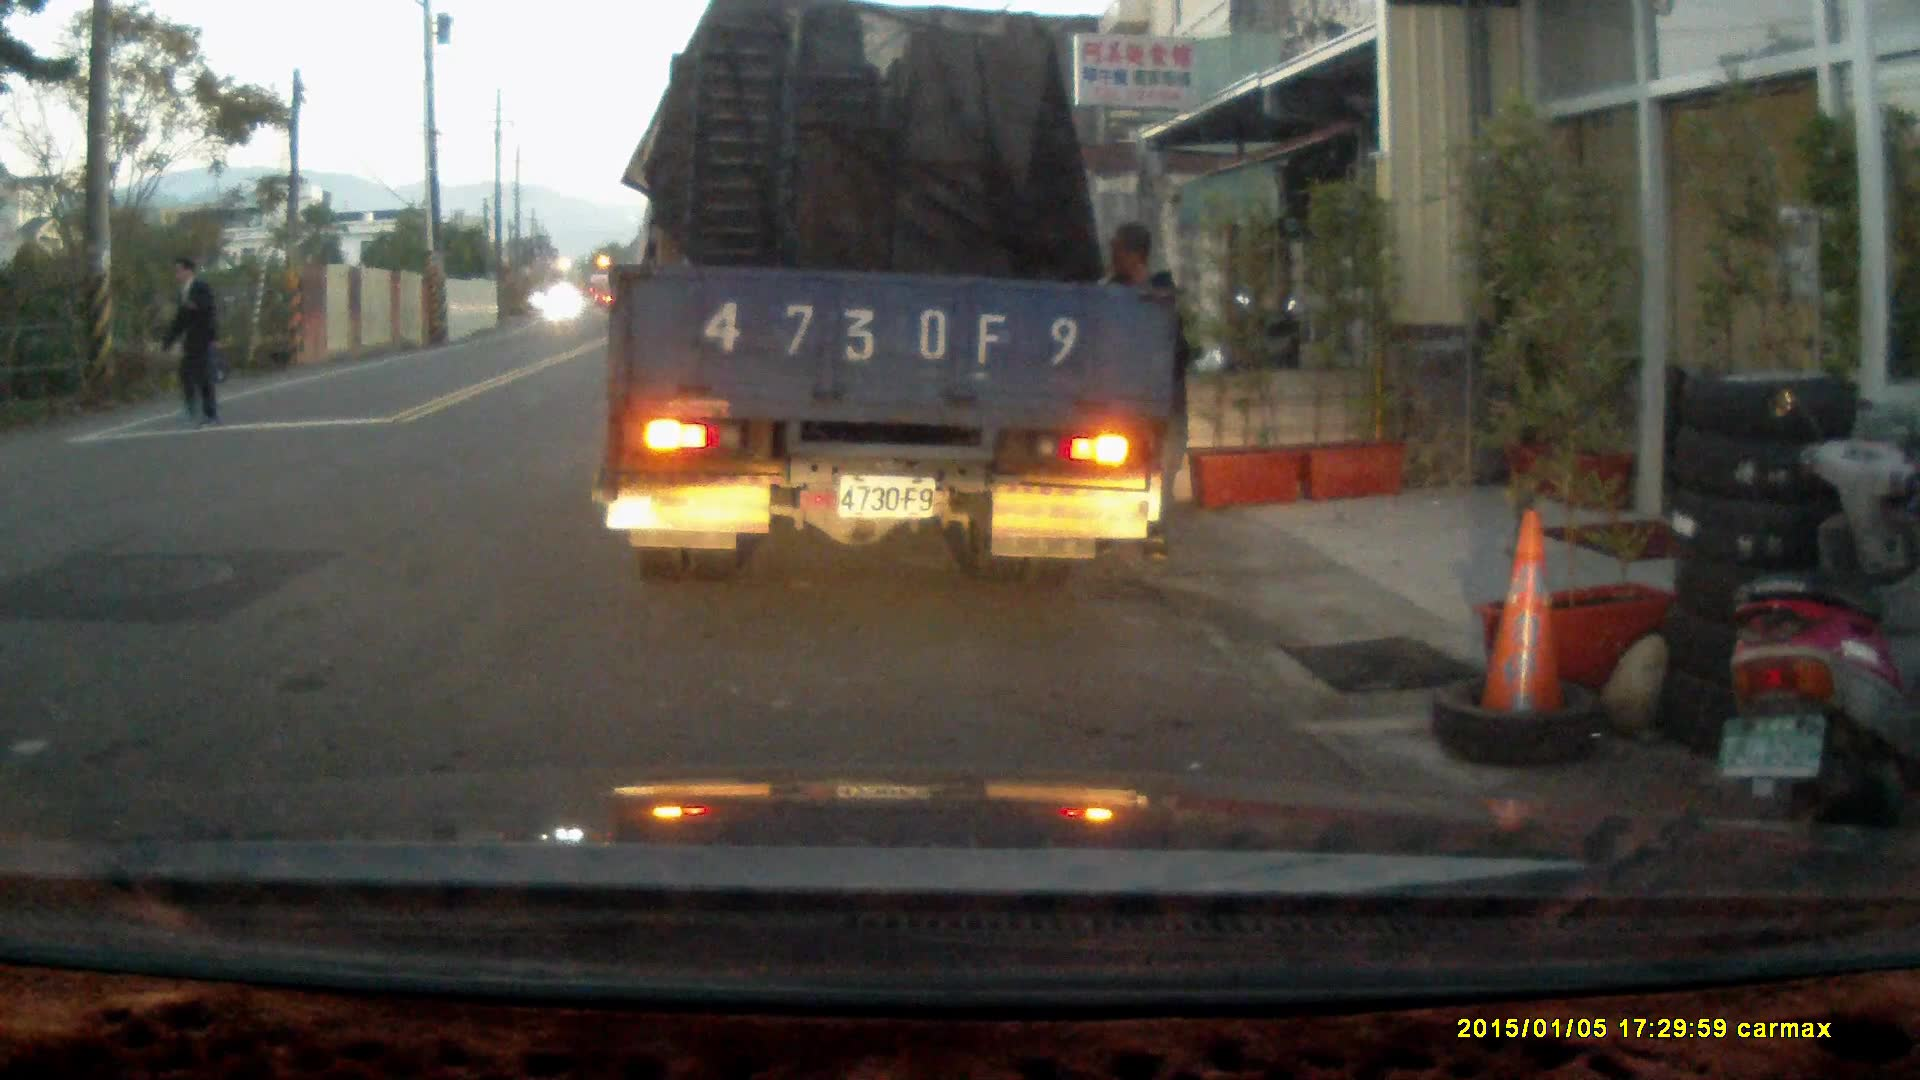pedestrian: (1092, 222, 1193, 570), (158, 256, 231, 433)
vehicle: (605, 23, 1188, 572)
